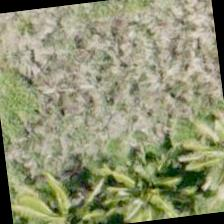Kelapa_Sawit: (100, 134, 201, 223), (15, 175, 112, 223)
